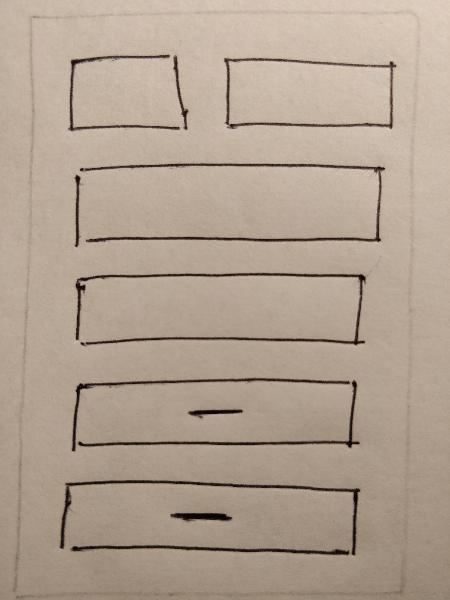button: (49, 472, 371, 567), (62, 370, 367, 461)
text_input: (66, 156, 393, 255), (66, 267, 379, 358), (215, 48, 407, 141), (58, 49, 200, 137)
